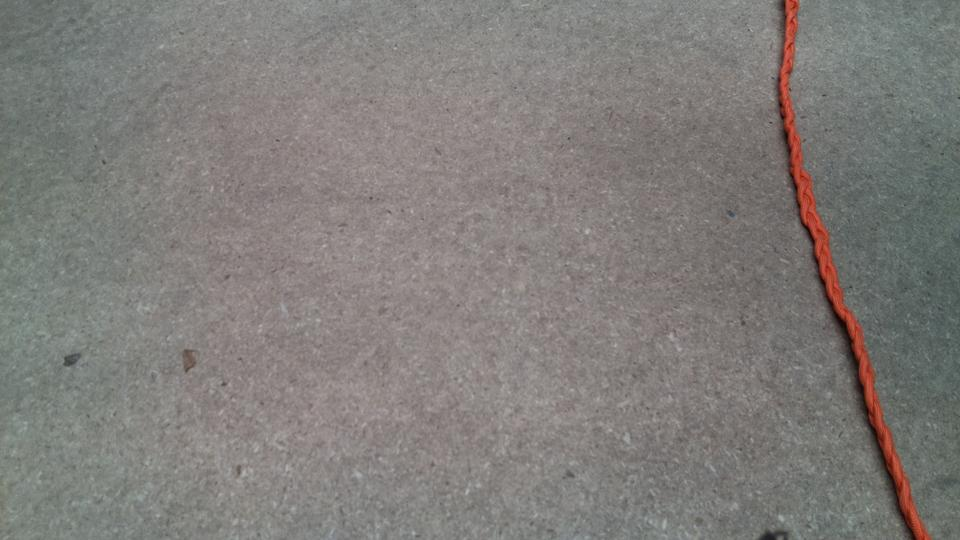rope: (772, 1, 938, 539)
